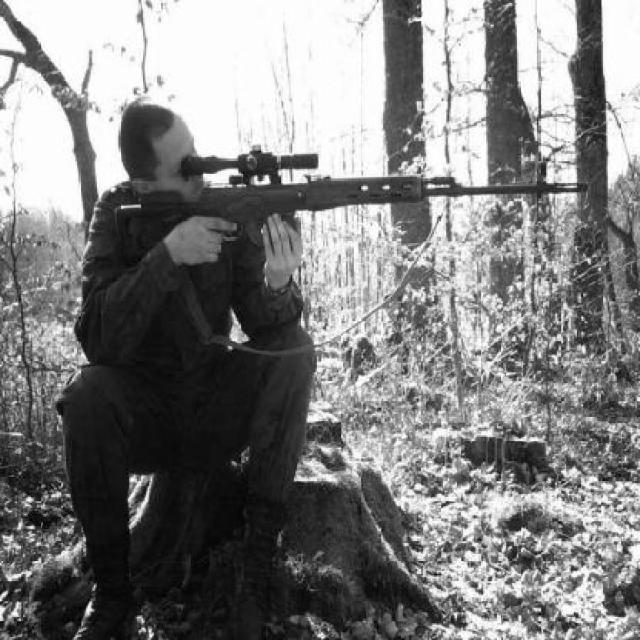weapon: (114, 140, 590, 272)
